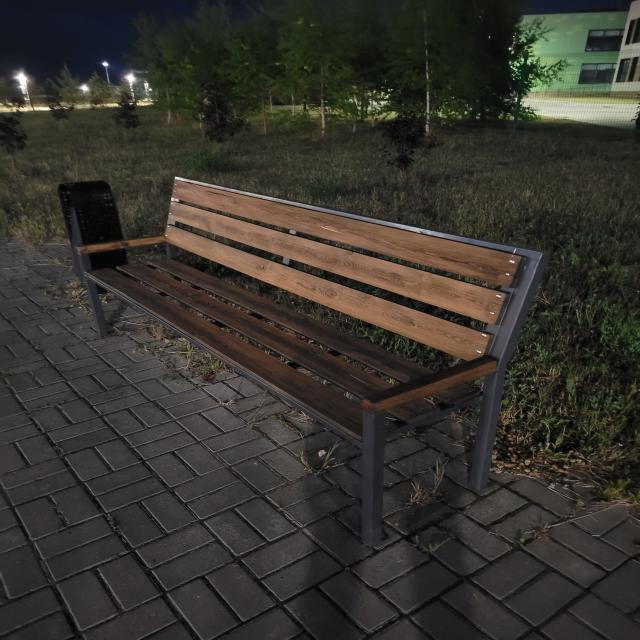Bench: (76, 176, 549, 546)
